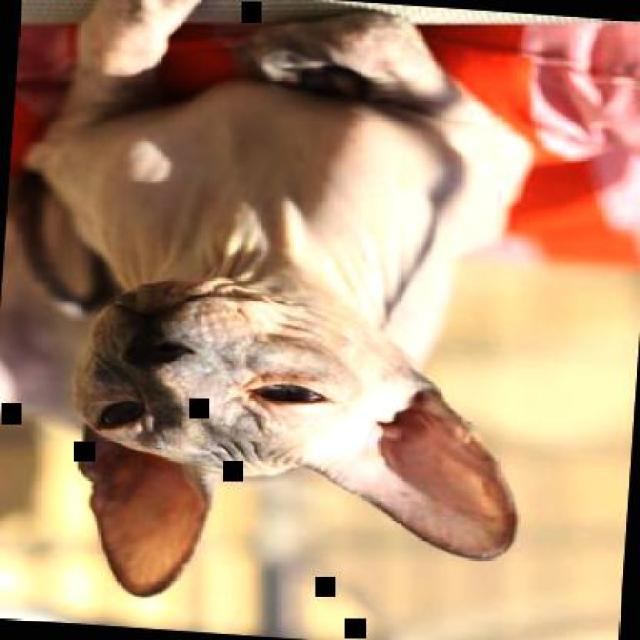cat: (0, 0, 557, 626)
